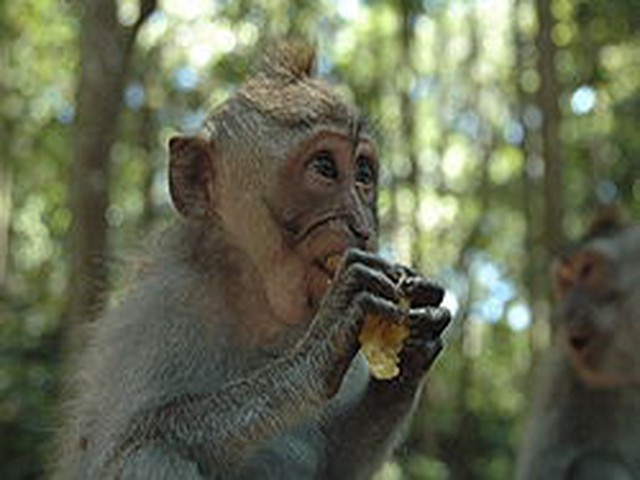Monkey: (80, 37, 453, 478), (522, 215, 639, 478)
